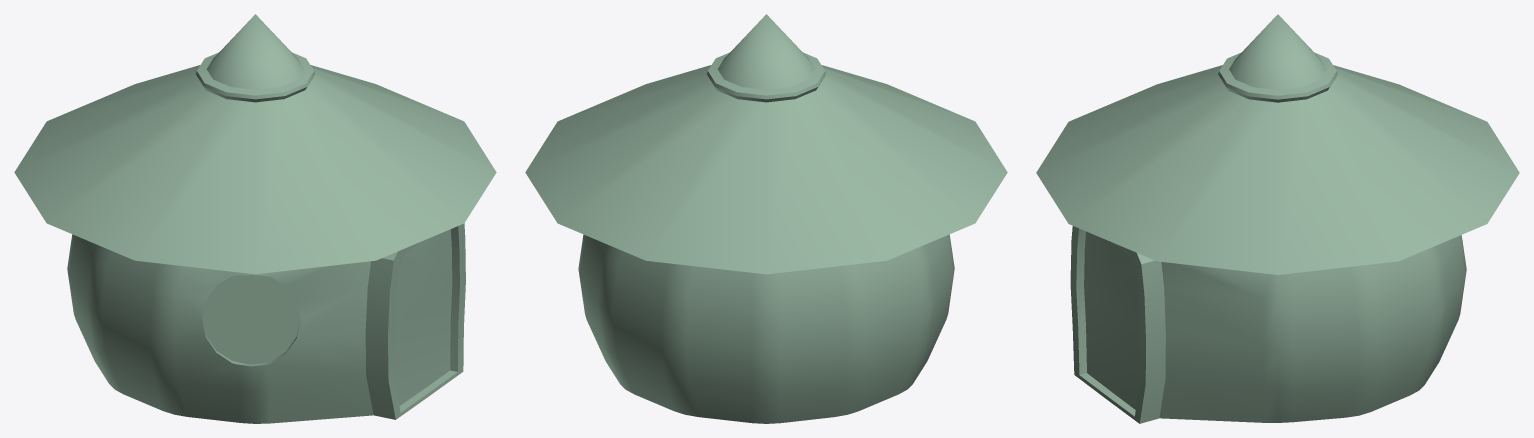
The model's file is Casa Aldea 1.fbx.
3 views of the same model, side by side, from view 1: azimuth 30°, elevation 25°; view 2: azimuth 150°, elevation 25°; view 3: azimuth 270°, elevation 25° (orthographic).
Parts seen in each view (by area): view 1: pSphere6; view 2: pSphere6; view 3: pSphere6.
Boxes of the visible parts, box(x1,y1,x2,y2) form: pSphere6: box(14, 14, 496, 423); pSphere6: box(525, 14, 1007, 423); pSphere6: box(1036, 14, 1519, 423).
Bounding box in the file's own units: 5.07 × 3.96 × 5.07.
